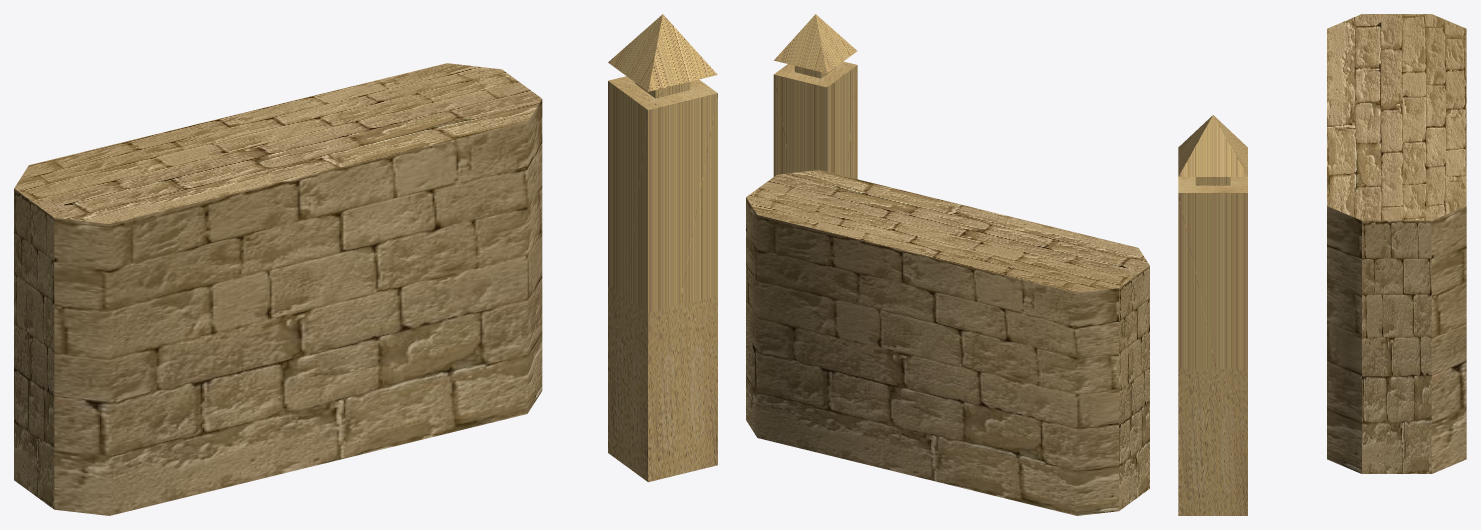
File: rigtigvæg.fbx
The picture shows the model from 3 angles, left to right: view 1: azimuth 30°, elevation 25°; view 2: azimuth 150°, elevation 25°; view 3: azimuth 270°, elevation 25°; orthographic projection. The views are drawn at different scales.
Visible parts, largest first — view 1: Wall, Pillar; view 2: Wall, Pillar; view 3: Wall, Pillar.
Boxes of the visible parts, left/top/right/bottom form: Wall: left=14, top=63, right=542, bottom=515; Pillar: left=608, top=14, right=717, bottom=482; Wall: left=746, top=170, right=1149, bottom=515; Pillar: left=773, top=14, right=857, bottom=179; Wall: left=1327, top=14, right=1466, bottom=473; Pillar: left=1178, top=115, right=1247, bottom=515.
Size of the model in its own units: 2 by 1.53 by 1.03.
